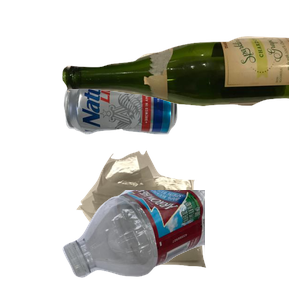glass: (60, 34, 300, 133)
metal: (61, 75, 231, 202)
plastic: (60, 190, 300, 280)
trash: (74, 148, 273, 300)
